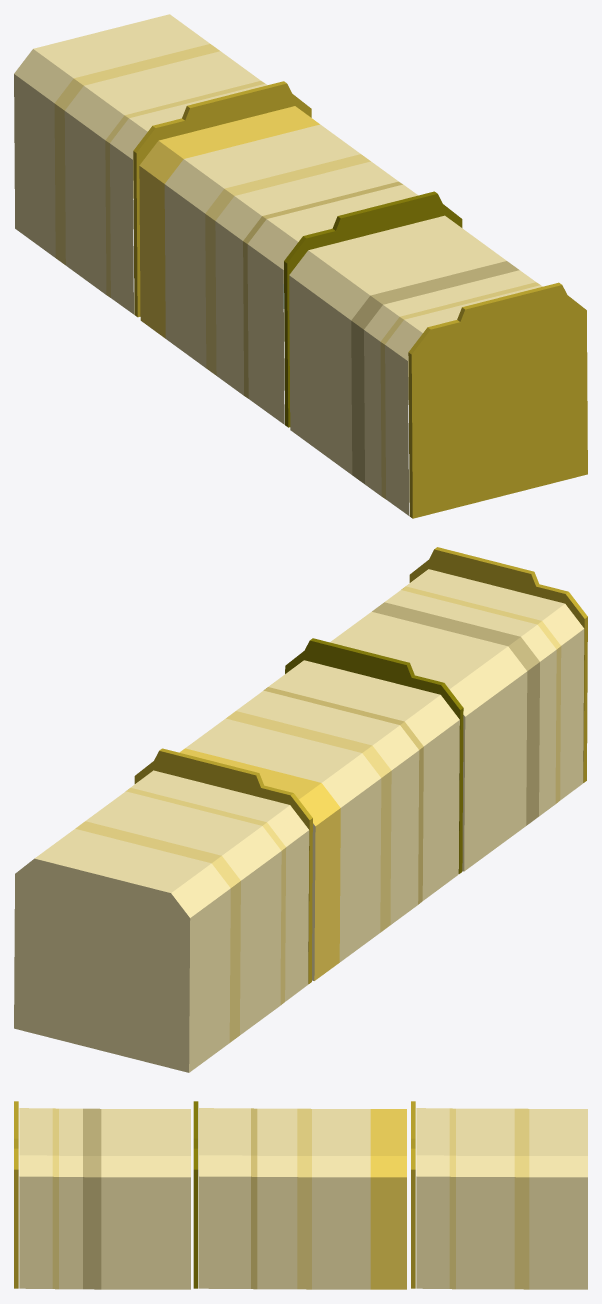
File: CubbyHoles_drawer_Cards.fbx
3 views of the same model, one above another, from view 1: azimuth 30°, elevation 25°; view 2: azimuth 150°, elevation 25°; view 3: azimuth 270°, elevation 25° (orthographic). The views are drawn at different scales.
Parts seen in each view (by area): view 1: Drawer1.001; view 2: Drawer1.001; view 3: Drawer1.001.
Boxes of the visible parts, x1,y1,x2,y2 form: Drawer1.001: (14,14,587,518); Drawer1.001: (14,547,587,1072); Drawer1.001: (14,1101,587,1289).
Size of the model in its own units: 0.1108 by 0.1192 by 0.4329.
